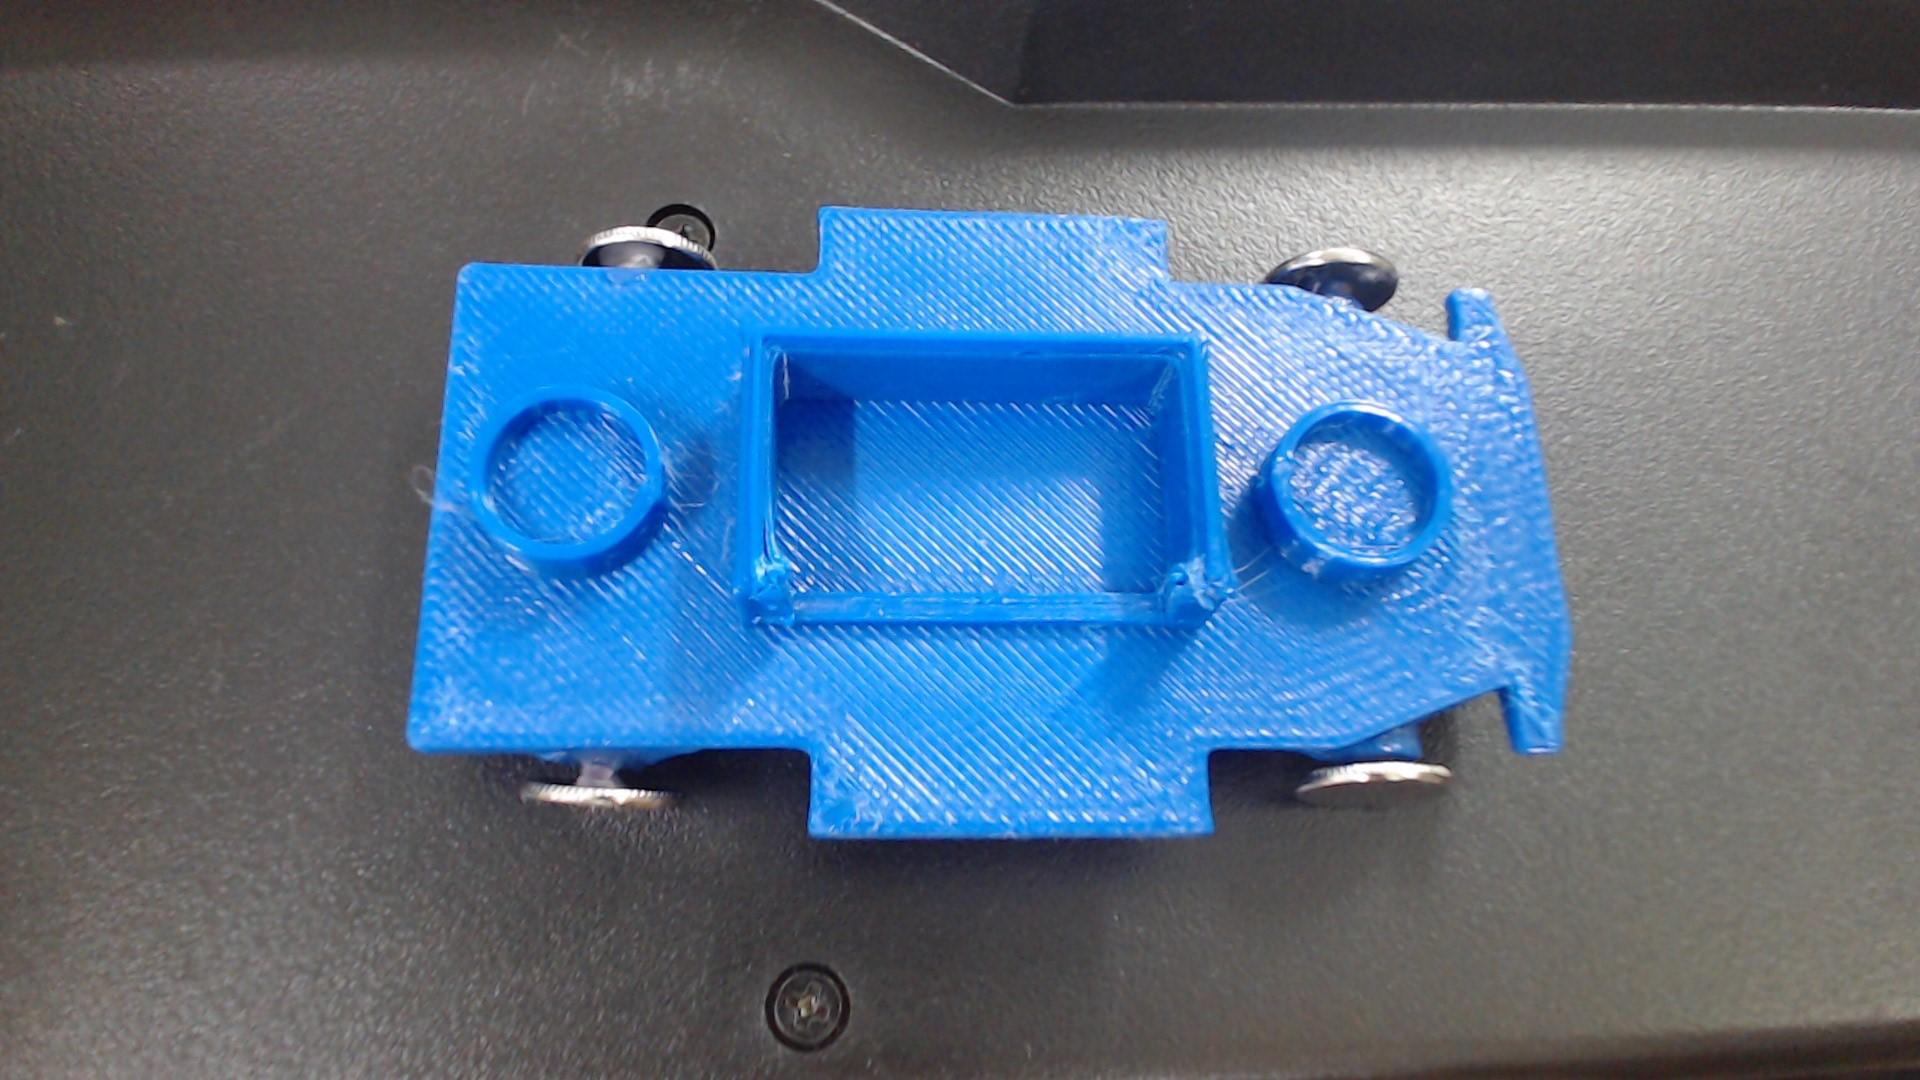lower_ng: (720, 313, 1266, 669)
